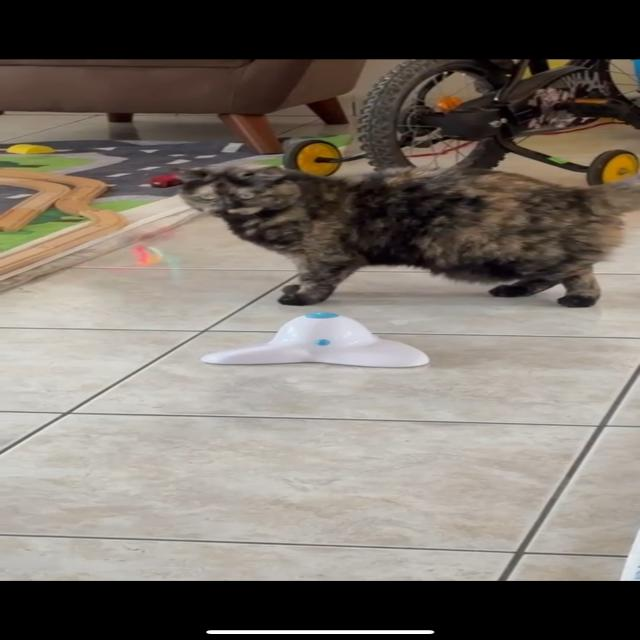authorized: (174, 161, 638, 308)
